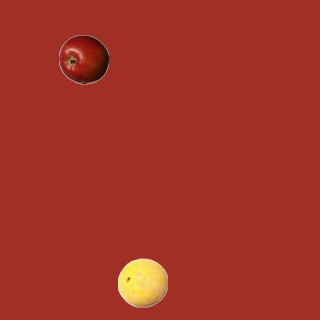Apple Braeburn: (58, 34, 108, 84)
Cantaloupe 1: (117, 257, 167, 307)
